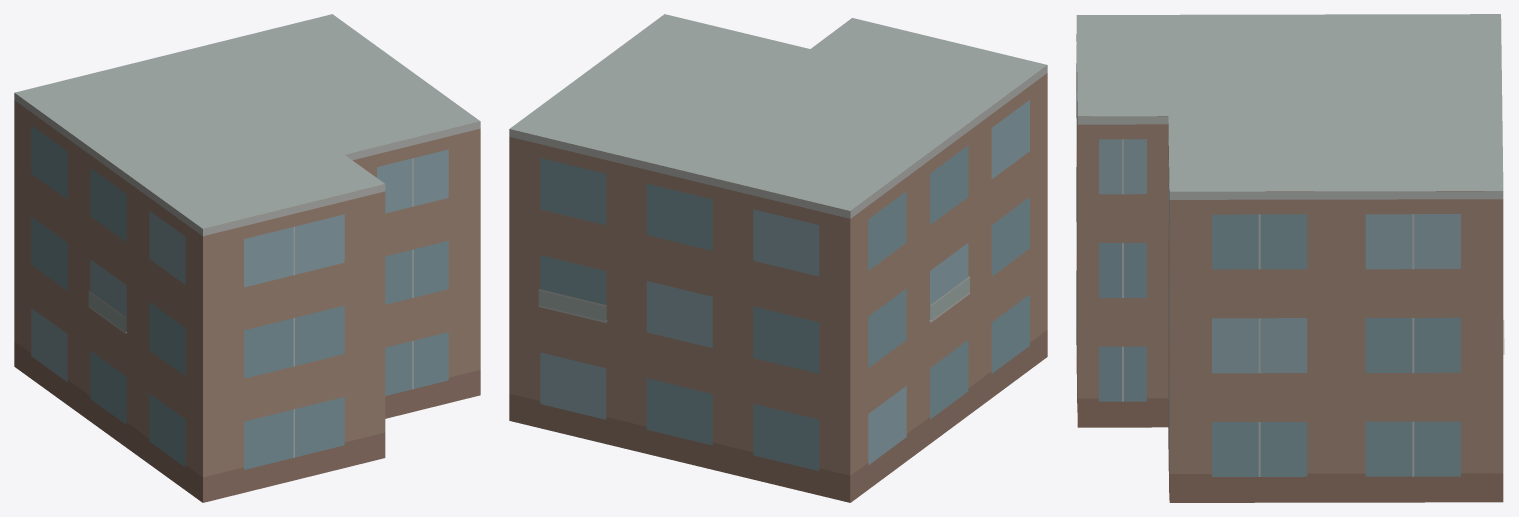
Rendered from survey-upis-32865521.glb.
The picture shows the model from 3 angles, left to right: view 1: azimuth 30°, elevation 25°; view 2: azimuth 150°, elevation 25°; view 3: azimuth 270°, elevation 25°; orthographic projection. The views are drawn at different scales.
Parts seen in each view (by area): view 1: survey-upis-32865521.tmp; view 2: survey-upis-32865521.tmp; view 3: survey-upis-32865521.tmp.
Boxes of the visible parts, x1=… form: survey-upis-32865521.tmp: x1=14, y1=14, x2=480, y2=502; survey-upis-32865521.tmp: x1=509, y1=14, x2=1047, y2=502; survey-upis-32865521.tmp: x1=1076, y1=14, x2=1504, y2=502.
Size of the model in its own units: 11.22 by 9.15 by 11.42.
